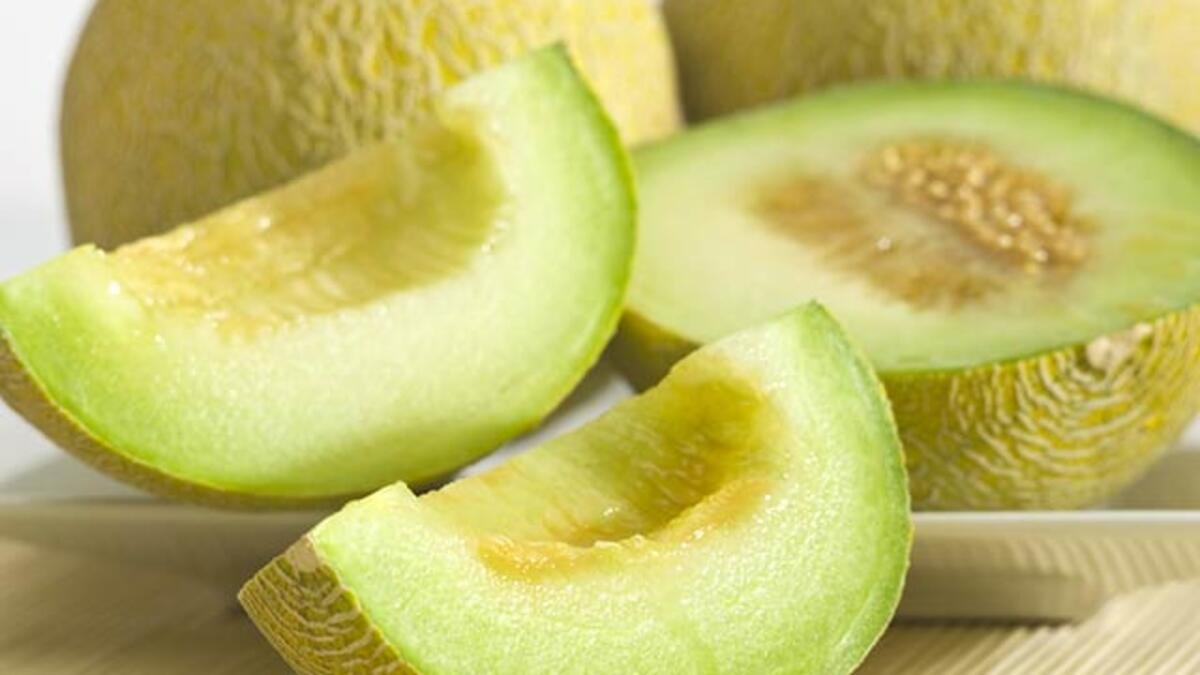Melon: (1, 34, 643, 520), (227, 304, 909, 675)
